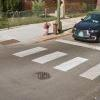Crosswalk: (16, 35, 100, 82)
